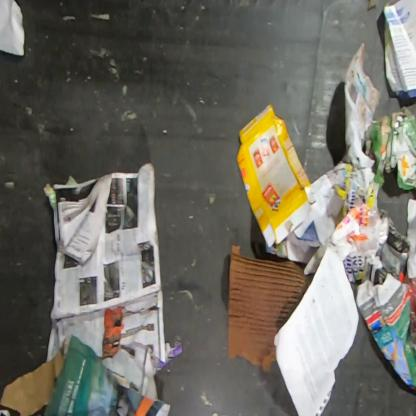cardboard: (235, 103, 318, 249), (227, 244, 316, 372), (0, 336, 68, 415)
metal: (393, 114, 403, 133)
